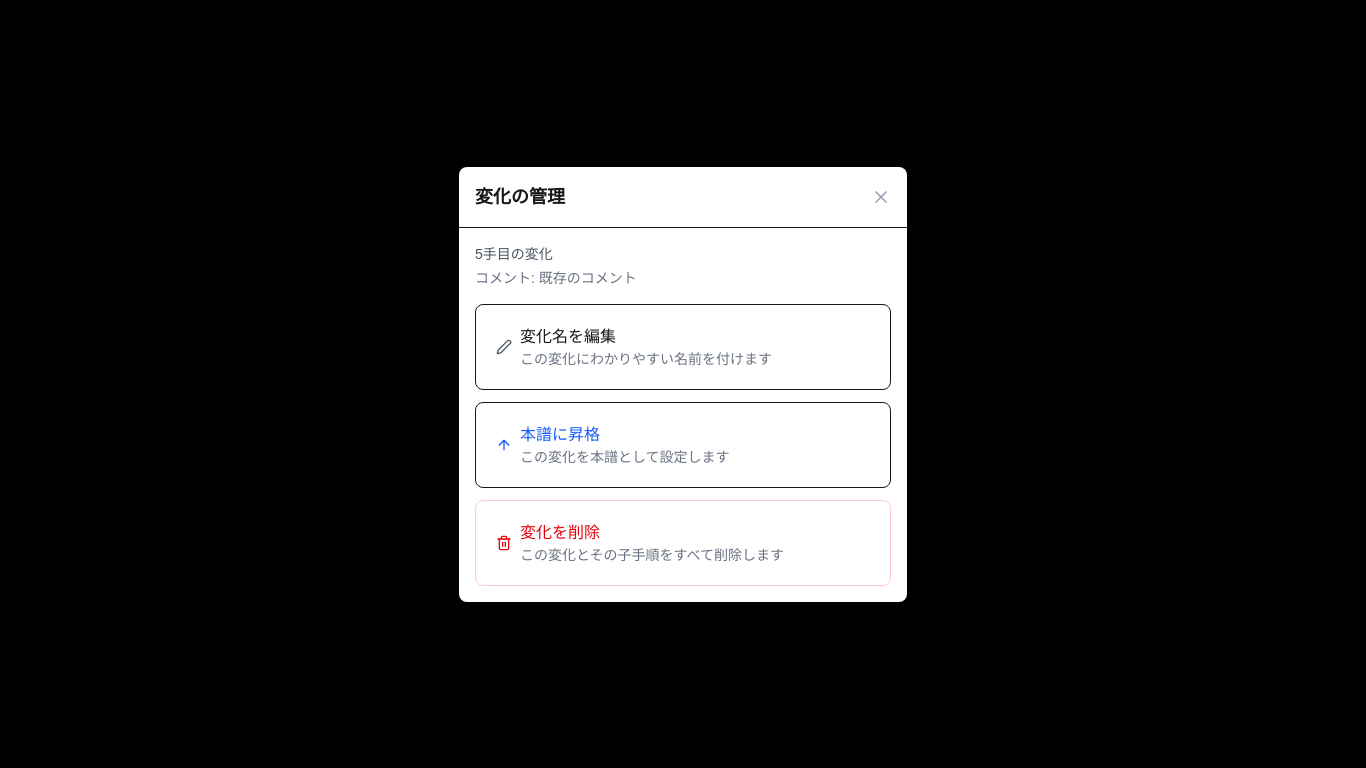
it: VariationManagementDialog › should cancel delete operation
Click delete button
Click the text "変化を削除". click: (560, 532)
box: [520,524,600,540]
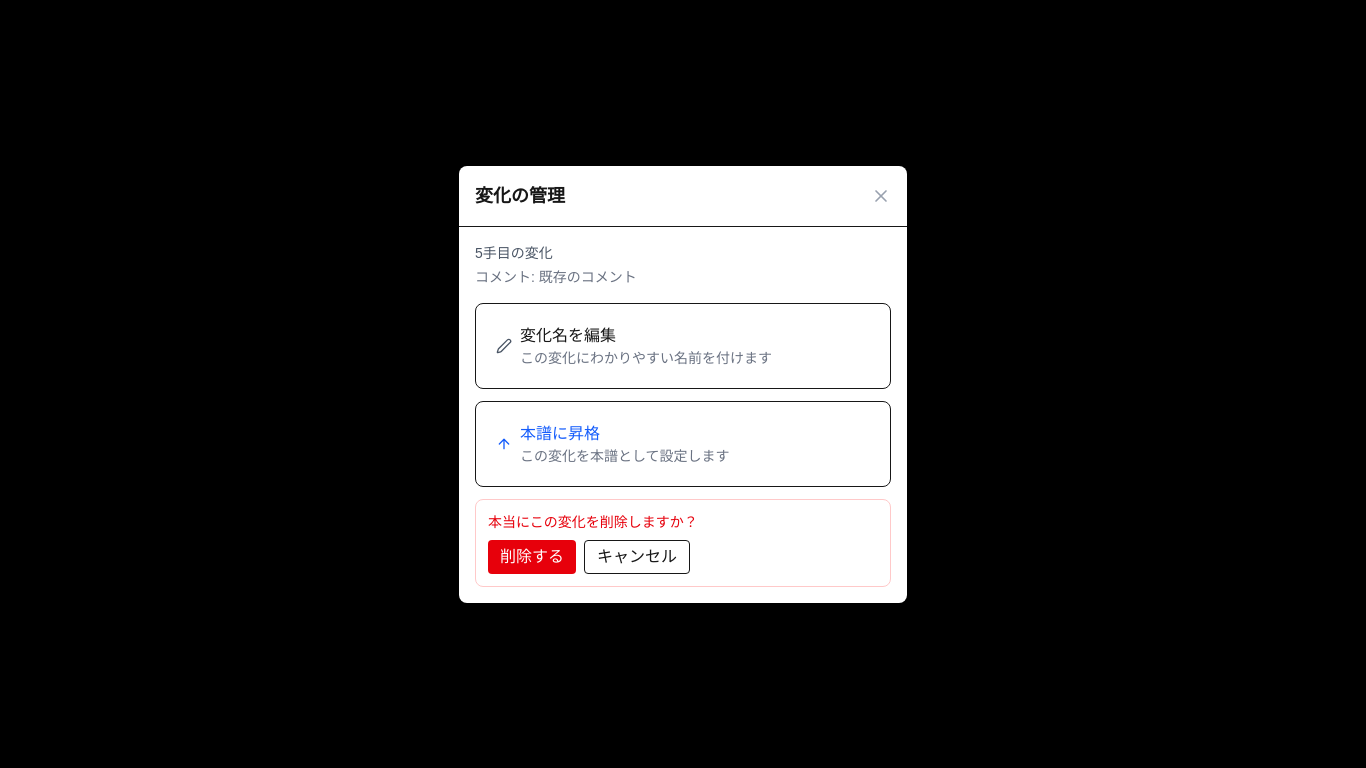
Cancel deletion
Click the button "キャンセル". click: (637, 556)
box: [584,540,690,574]
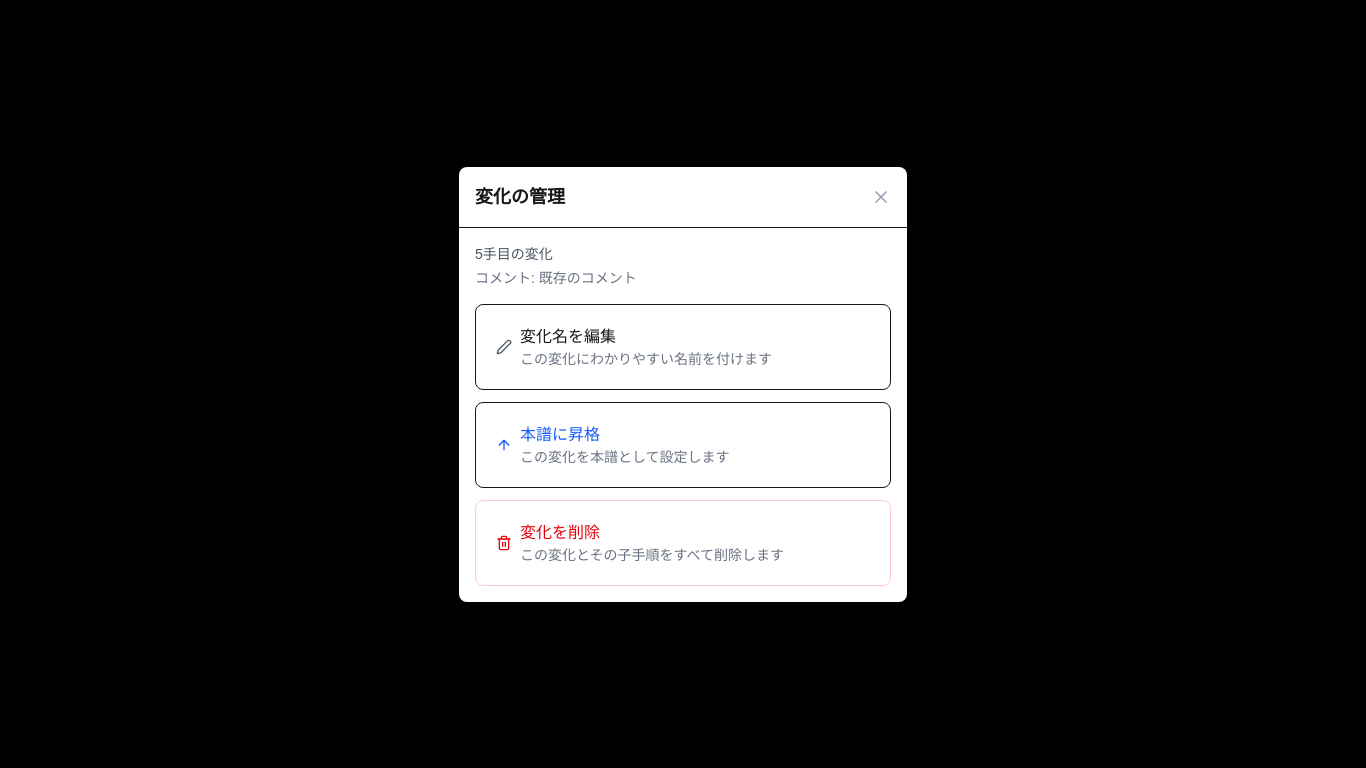
expect the text "本当にこの変化を削除しますか？" is gone: met
